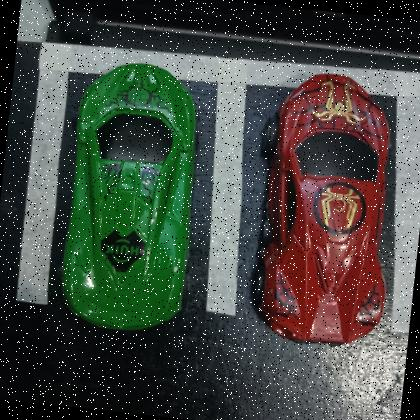Car: (250, 73, 392, 346), (60, 63, 196, 332)
